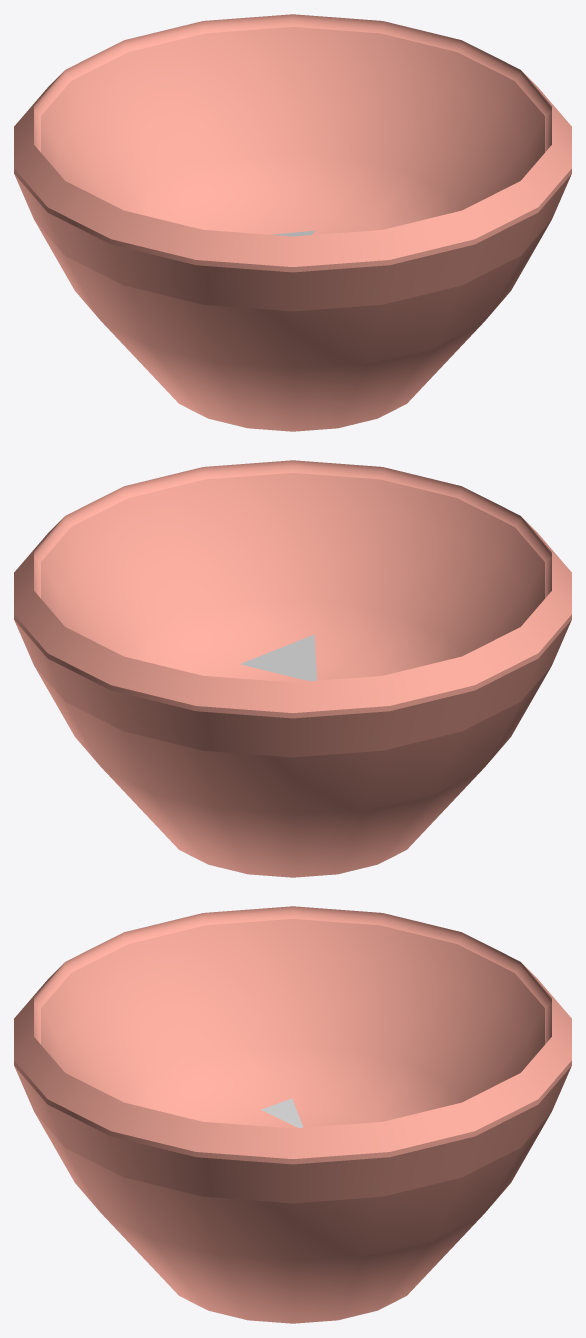
File: bowl_01.FBX
3 views of the same model, one above another, from view 1: azimuth 30°, elevation 25°; view 2: azimuth 150°, elevation 25°; view 3: azimuth 270°, elevation 25° (orthographic).
Parts seen in each view (by area): view 1: Cylinder034; view 2: Cylinder034; view 3: Cylinder034.
Part boxes in pixels (x1,y1,x2,y2): Cylinder034: (14, 14, 571, 431); Cylinder034: (14, 460, 571, 877); Cylinder034: (14, 906, 571, 1323).
Bounding box in the file's own units: 68.4 × 33.4 × 67.37.
